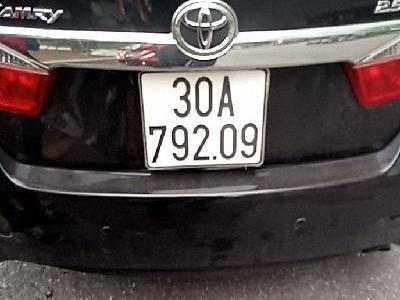car: (139, 73, 267, 171)
